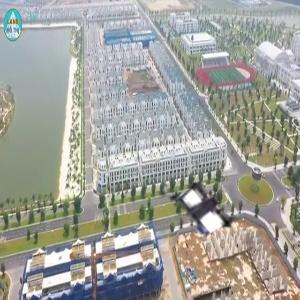drone: (159, 159, 258, 258)
